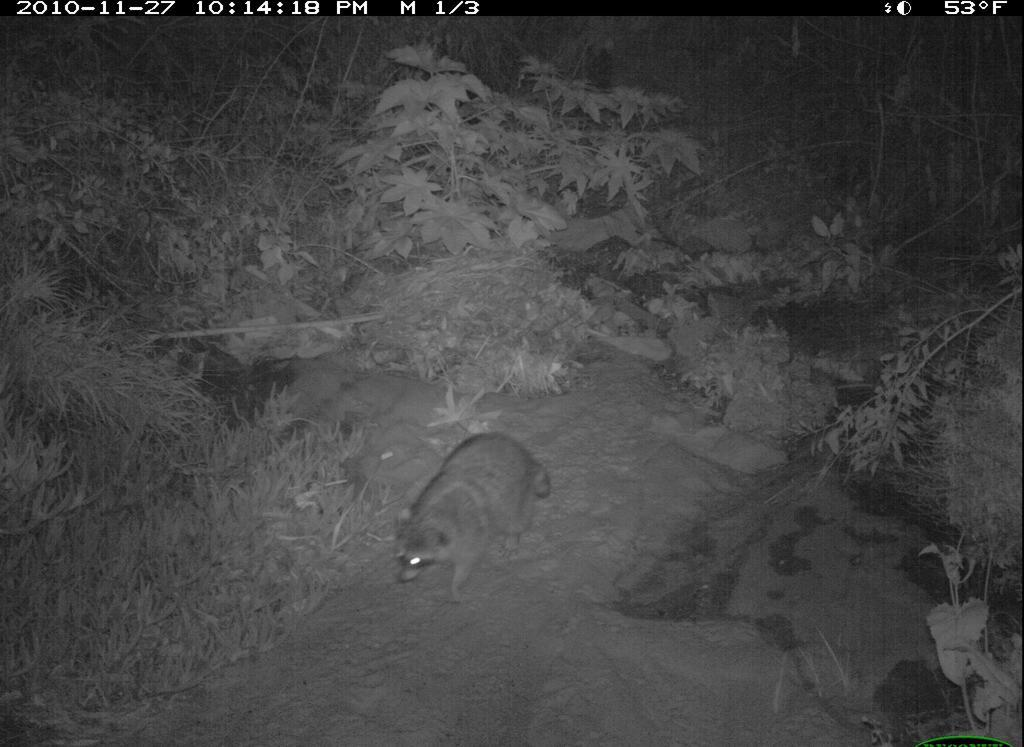raccoon: (365, 415, 559, 609)
